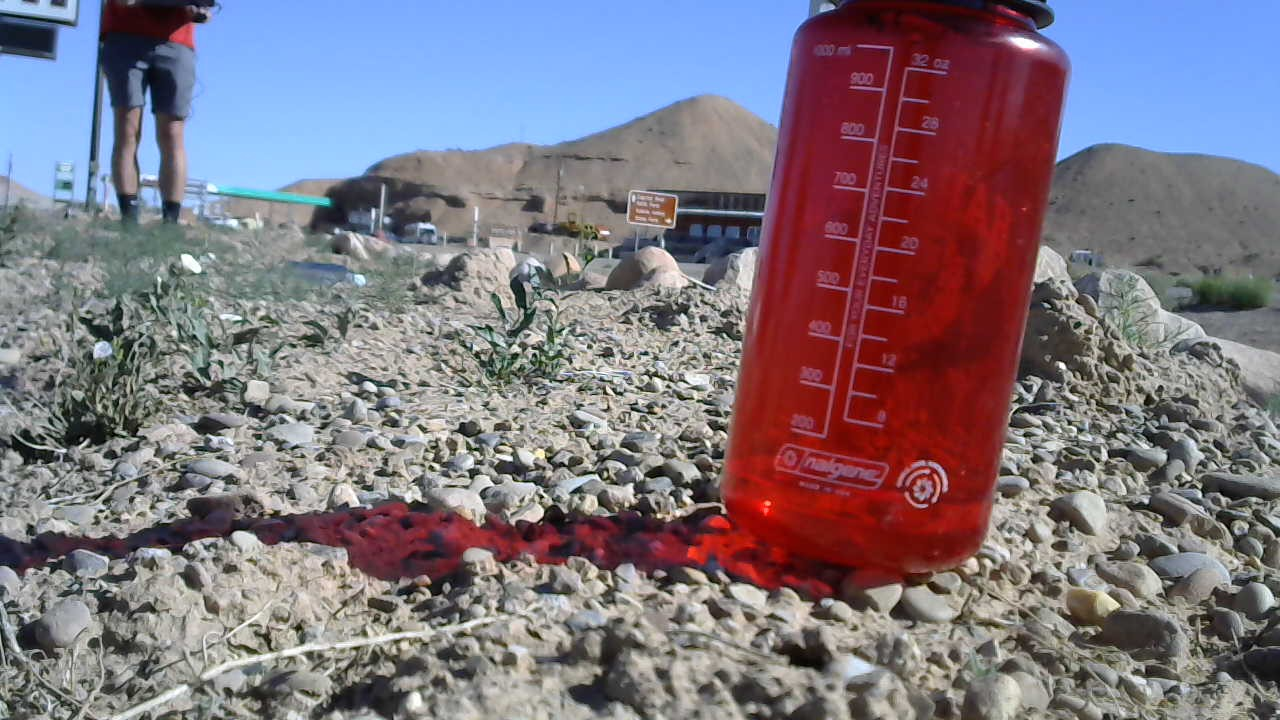bottle: (713, 1, 1063, 575)
